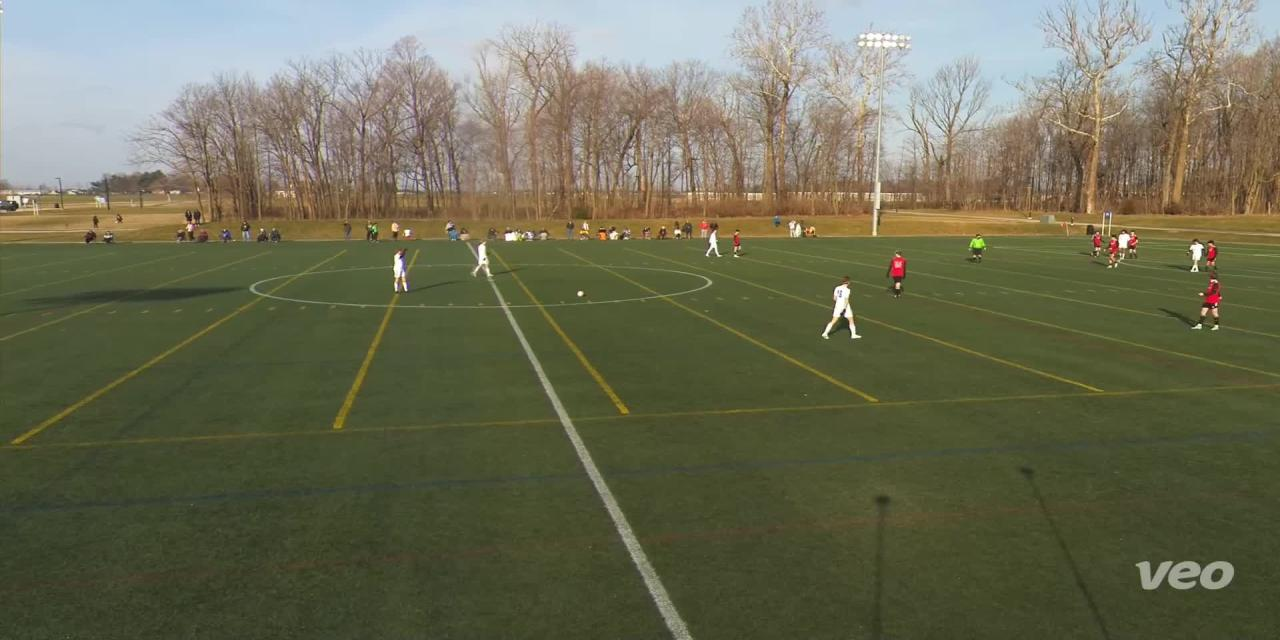sports ball: (574, 287, 590, 301)
